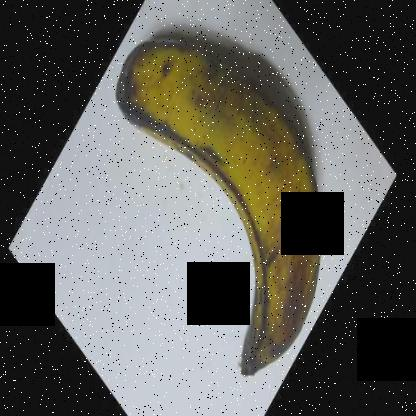rotten: (104, 35, 346, 385)
